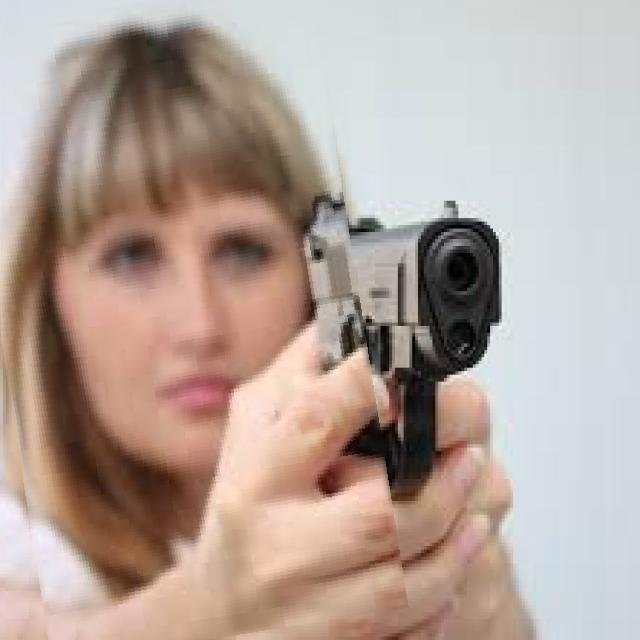Gun_Holder: (274, 179, 526, 512)
Person: (29, 10, 536, 640)
